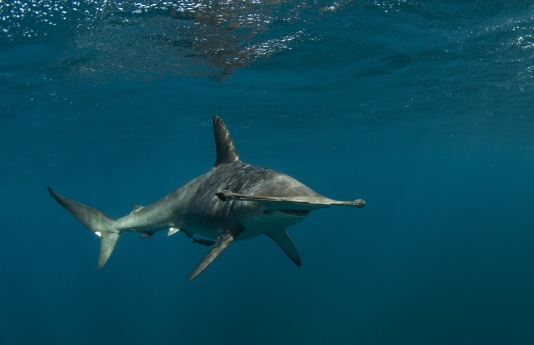Hammer: (32, 94, 376, 306)
